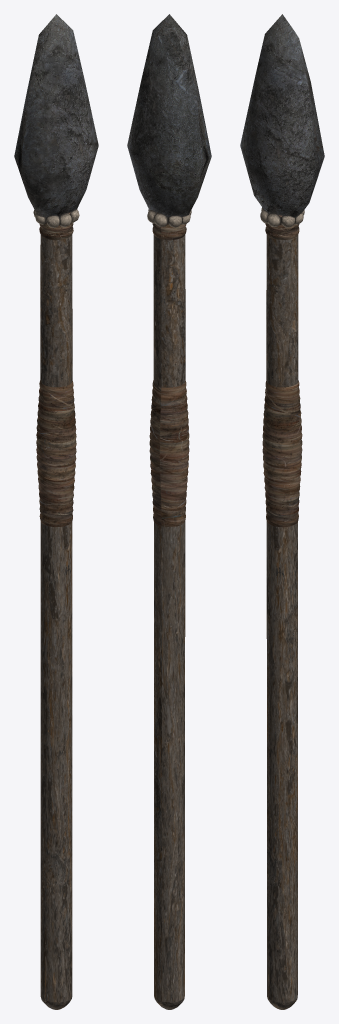
3 renders of one model, left to right at view 1: azimuth 30°, elevation 25°; view 2: azimuth 150°, elevation 25°; view 3: azimuth 330°, elevation 25°, orthographic.
Visible parts, largest first — view 1: spear; view 2: spear; view 3: spear.
Part boxes in pixels (bbox=[...]): spear: bbox=[14, 14, 98, 1009]; spear: bbox=[127, 14, 211, 1009]; spear: bbox=[240, 14, 324, 1009].
Size of the model in its own units: 1174 by 14967 by 888.
1 material, 1 textured.
